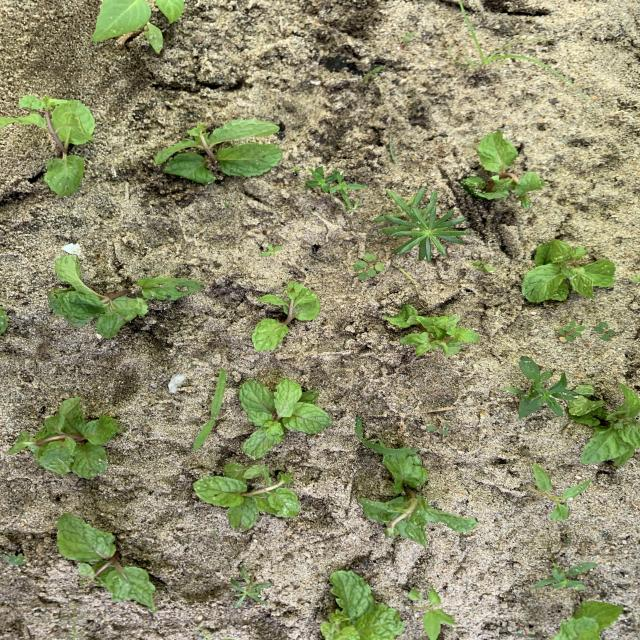crop: (47, 252, 202, 336), (360, 454, 477, 546), (57, 514, 155, 610), (1, 96, 95, 195), (8, 397, 121, 478), (155, 120, 282, 183), (240, 378, 331, 458), (193, 463, 299, 530), (463, 131, 545, 206), (567, 384, 639, 464), (320, 571, 403, 639), (523, 240, 615, 301), (384, 305, 478, 355), (254, 282, 319, 350), (552, 601, 623, 639), (1, 307, 8, 334)
weed: (458, 0, 574, 87), (377, 189, 467, 260), (92, 0, 163, 54), (506, 359, 568, 419), (523, 465, 591, 519), (193, 369, 227, 451), (305, 167, 365, 211), (355, 416, 417, 456), (408, 589, 456, 640), (534, 552, 586, 590), (232, 569, 271, 606), (152, 0, 184, 24), (354, 253, 383, 279), (557, 320, 584, 339), (531, 59, 559, 75), (426, 418, 452, 435), (595, 322, 615, 339), (3, 553, 24, 565), (261, 245, 282, 255), (473, 262, 495, 270), (516, 630, 535, 639), (400, 32, 414, 43)
